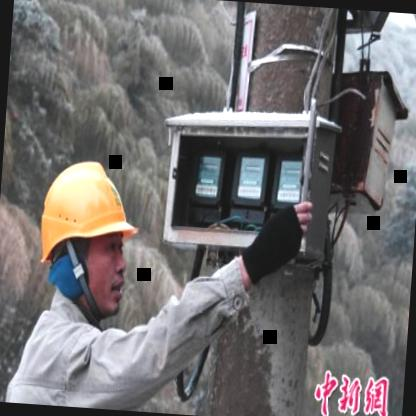helmet: (24, 145, 148, 330)
